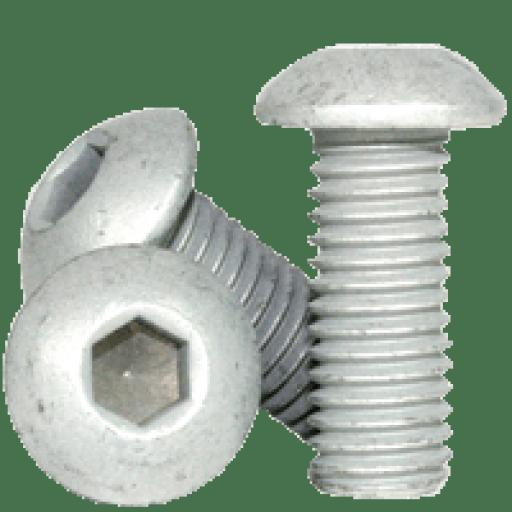Hex-Allen: (5, 243, 259, 507)
